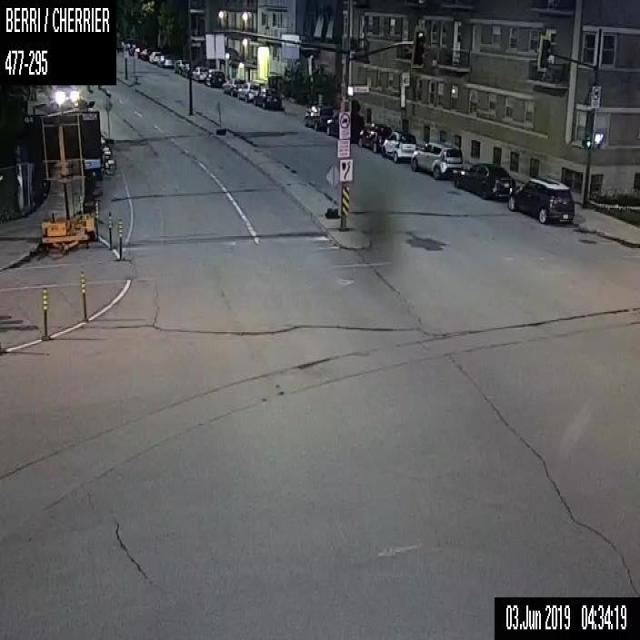construction: (28, 99, 102, 252), (324, 163, 339, 217), (213, 100, 226, 135), (103, 99, 111, 141), (81, 270, 87, 322), (42, 286, 47, 334), (117, 217, 122, 259), (107, 212, 112, 249), (318, 94, 322, 105)
vehicle: (507, 176, 574, 224), (453, 162, 514, 201), (410, 140, 462, 176), (326, 110, 364, 142), (380, 130, 416, 162), (358, 122, 391, 152), (304, 105, 332, 131), (253, 87, 281, 109), (53, 85, 79, 102), (238, 81, 260, 101), (203, 68, 225, 86), (222, 78, 242, 94), (191, 66, 207, 80), (158, 54, 172, 67), (174, 59, 186, 73), (181, 62, 191, 76), (148, 51, 160, 62), (139, 48, 149, 59)
